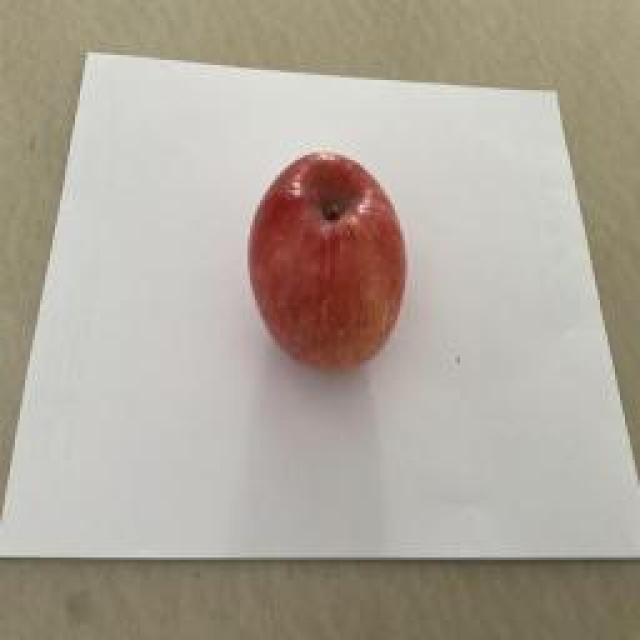apple: (250, 151, 405, 370)
